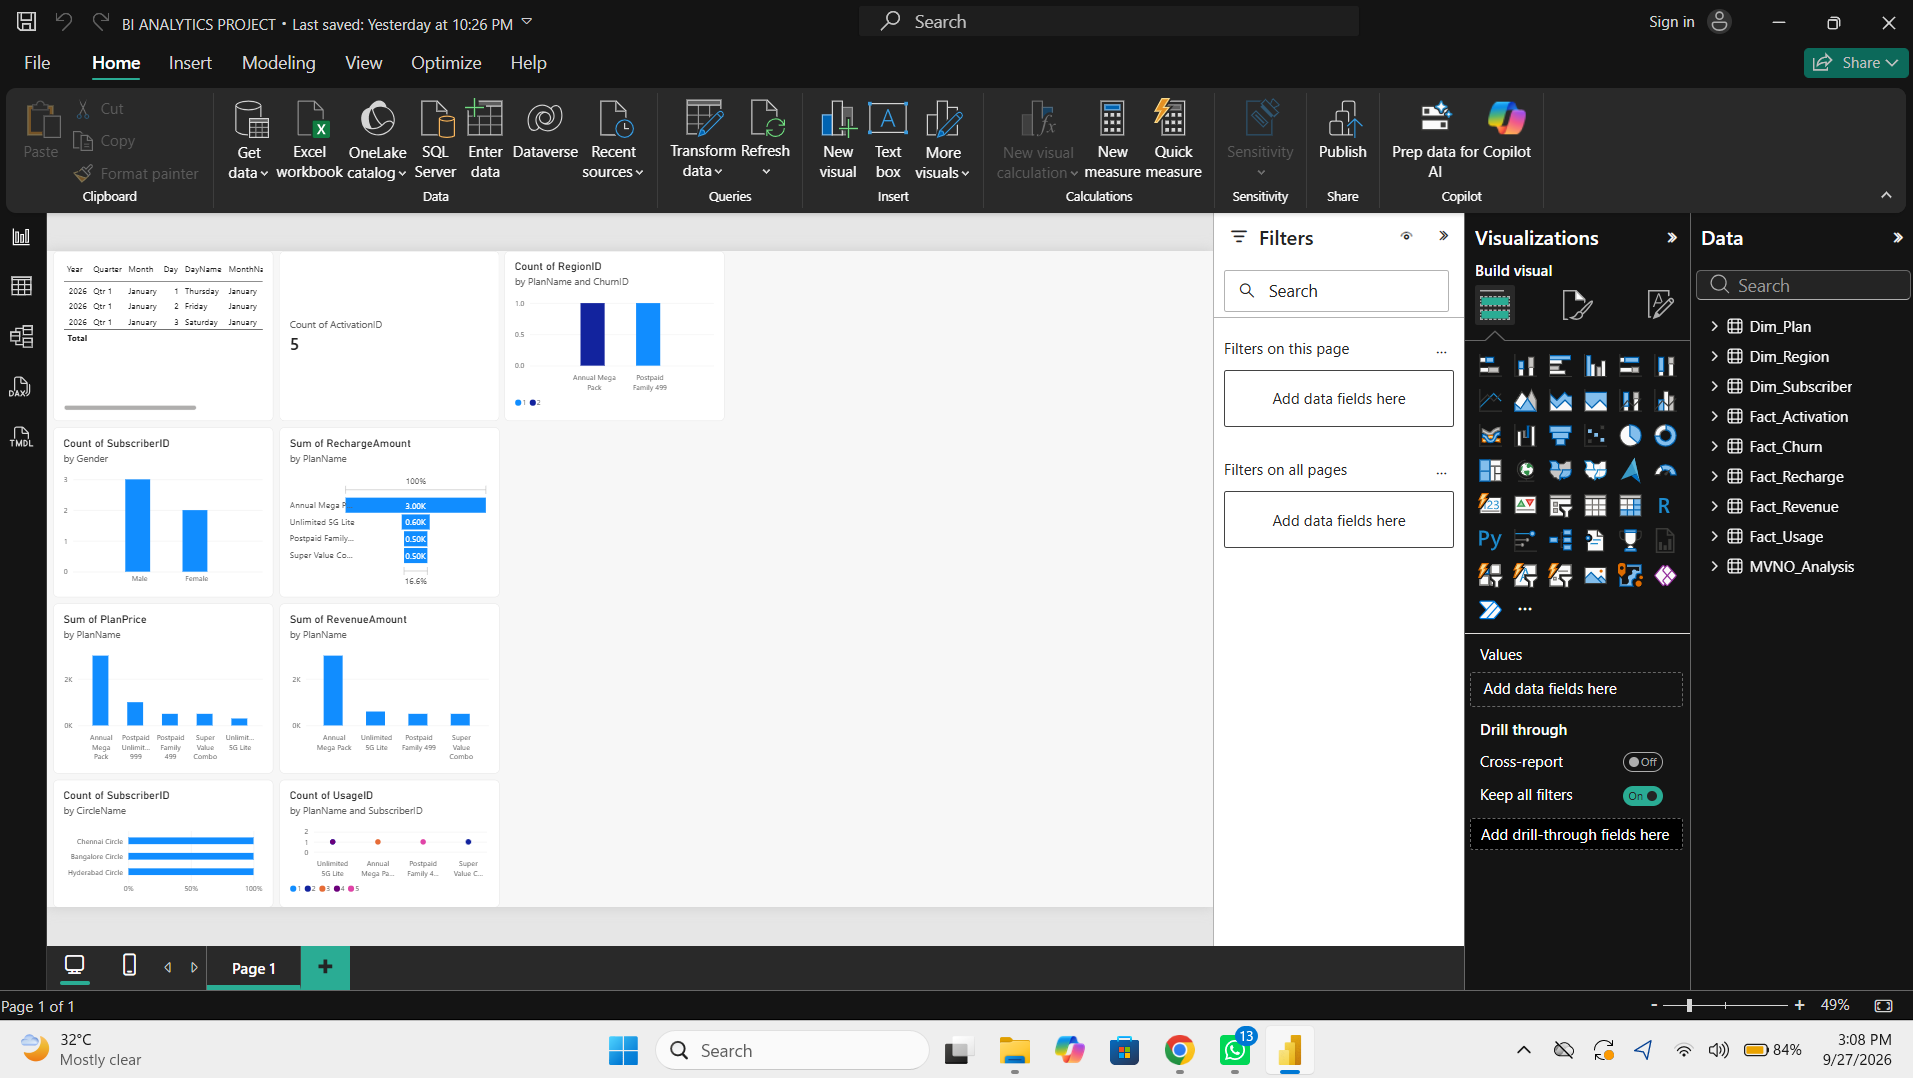

Layout of this report page (visuals, bound fields, positions):
{"tool":"powerbi","page":{"name":"Page 1","canvas":[1920,1080],"ordinal":0},"visuals":[{"type":"tableEx","fields":{"Values":["MVNO_Analysis.FullDate.Variation.Date Hierarchy.Year","MVNO_Analysis.FullDate.Variation.Date Hierarchy.Quarter","MVNO_Analysis.FullDate.Variation.Date Hierarchy.Month","MVNO_Analysis.FullDate.Variation.Date Hierarchy.Day","MVNO_Analysis.DayName","MVNO_Analysis.MonthName","Sum(MVNO_Analysis.YearNumber)"]},"box":[10.3,0,362.3,279.9],"z":0},{"type":"clusteredColumnChart","fields":{"Category":["Dim_Subscriber.Gender"],"Y":["CountNonNull(Dim_Subscriber.SubscriberID)"]},"box":[10,290,362,280],"z":1},{"type":"clusteredColumnChart","fields":{"Category":["Dim_Plan.PlanName"],"Y":["Sum(Dim_Plan.PlanPrice)"]},"box":[10,580,362,280],"z":2},{"type":"hundredPercentStackedBarChart","fields":{"Category":["Dim_Region.CircleName"],"Y":["CountNonNull(Dim_Subscriber.SubscriberID)"]},"box":[10,870,362,210],"z":3},{"type":"cardVisual","fields":{"Data":["CountNonNull(Fact_Activation.ActivationID)"]},"box":[382,0,362,280],"z":4},{"type":"funnel","fields":{"Category":["Dim_Plan.PlanName"],"Y":["Sum(Fact_Recharge.RechargeAmount)"]},"box":[382,290,362,280],"z":5},{"type":"clusteredColumnChart","fields":{"Category":["Dim_Plan.PlanName"],"Y":["Sum(Fact_Revenue.RevenueAmount)"]},"box":[382,580,362,280],"z":6},{"type":"areaChart","fields":{"Category":["Dim_Plan.PlanName"],"Series":["Fact_Usage.SubscriberID"],"Y":["CountNonNull(Fact_Usage.UsageID)"]},"box":[382,870,362,210],"z":7},{"type":"columnChart","fields":{"Category":["Dim_Plan.PlanName"],"Series":["Fact_Churn.ChurnID"],"Y":["CountNonNull(Fact_Churn.RegionID)"]},"box":[754,0,362,280],"z":8}]}

Visuals, with their boxes on the page's 1920x1080 design canvas (x1, y1, x2, y2). These are canvas units, not pixel positions in the 1913x1078 screenshot, which may show the page scaled, cropped or inside an application window:
tableEx - MVNO_Analysis.FullDate.Variation.Date Hierarchy.Year x MVNO_Analysis.FullDate.Variation.Date Hierarchy.Quarter: select_region(10, 0, 373, 280)
clusteredColumnChart - Dim_Subscriber.Gender x CountNonNull(Dim_Subscriber.SubscriberID): select_region(10, 290, 372, 570)
clusteredColumnChart - Dim_Plan.PlanName x Sum(Dim_Plan.PlanPrice): select_region(10, 580, 372, 860)
hundredPercentStackedBarChart - Dim_Region.CircleName x CountNonNull(Dim_Subscriber.SubscriberID): select_region(10, 870, 372, 1080)
cardVisual - CountNonNull(Fact_Activation.ActivationID): select_region(382, 0, 744, 280)
funnel - Dim_Plan.PlanName x Sum(Fact_Recharge.RechargeAmount): select_region(382, 290, 744, 570)
clusteredColumnChart - Dim_Plan.PlanName x Sum(Fact_Revenue.RevenueAmount): select_region(382, 580, 744, 860)
areaChart - Dim_Plan.PlanName x Fact_Usage.SubscriberID: select_region(382, 870, 744, 1080)
columnChart - Dim_Plan.PlanName x Fact_Churn.ChurnID: select_region(754, 0, 1116, 280)
